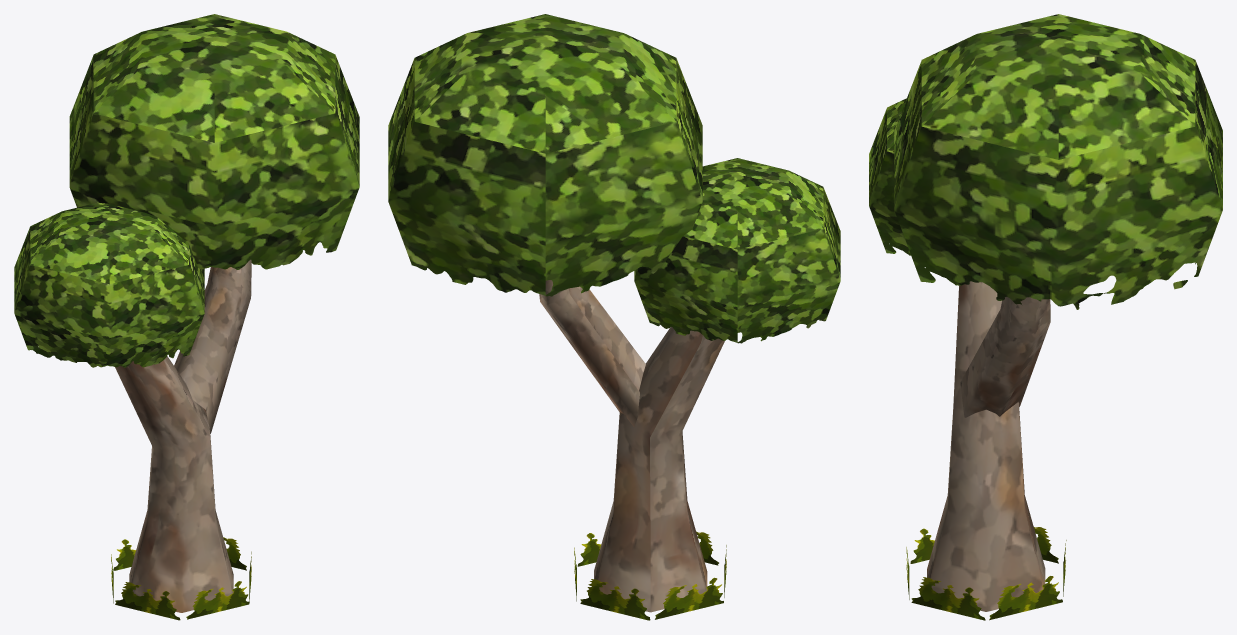
The model's file is arbol_01.FBX.
3 renders of one model, left to right at view 1: azimuth 30°, elevation 25°; view 2: azimuth 150°, elevation 25°; view 3: azimuth 270°, elevation 25°, orthographic. The views are drawn at different scales.
Visible parts, largest first — view 1: Arbol_006; view 2: Arbol_006; view 3: Arbol_006.
Part boxes in pixels (box(x1,y1,x2,y2)): Arbol_006: box(14, 14, 359, 620); Arbol_006: box(388, 14, 840, 620); Arbol_006: box(869, 14, 1222, 620).
Bounding box in the file's own units: 2.37 × 1.68 × 3.03.
Materials: 1 (1 with a texture image).
